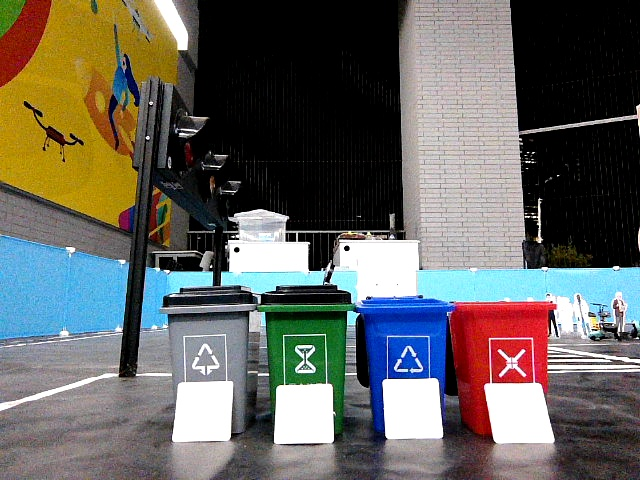blue_open: (365, 295, 443, 375)
green_close: (265, 284, 345, 380)
grey_close: (168, 287, 248, 378)
red_open: (459, 301, 543, 379)
